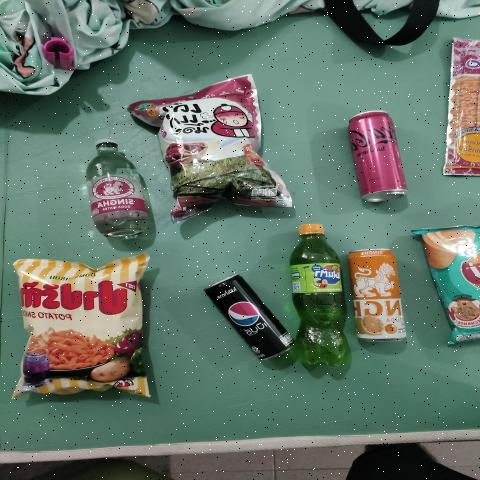coke_red: (352, 105, 399, 209)
fanta_green: (287, 218, 359, 369)
paprika: (23, 263, 148, 399)
pepsi_black: (205, 270, 295, 364)
singha_soda: (80, 135, 154, 237), (345, 244, 413, 342)
taokaenoi: (149, 87, 292, 202)
